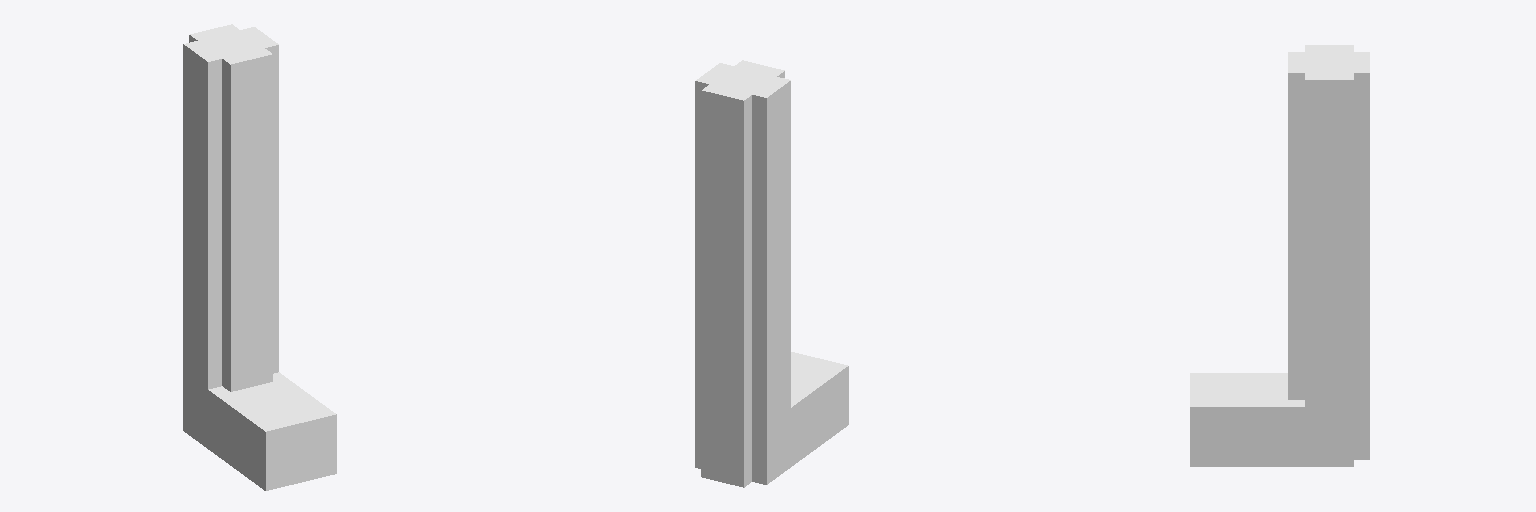
The model's file is human0_leg2.obj.
3 renders of one model, left to right at view 1: azimuth 30°, elevation 25°; view 2: azimuth 150°, elevation 25°; view 3: azimuth 270°, elevation 25°, orthographic.
Visible parts, largest first — view 1: human0_leg2; view 2: human0_leg2; view 3: human0_leg2.
Part boxes in pixels (bbox=[...]): human0_leg2: bbox=[183, 24, 336, 490]; human0_leg2: bbox=[695, 60, 848, 487]; human0_leg2: bbox=[1190, 45, 1369, 466].
Bounding box in the file's own units: 5 × 26 × 11.